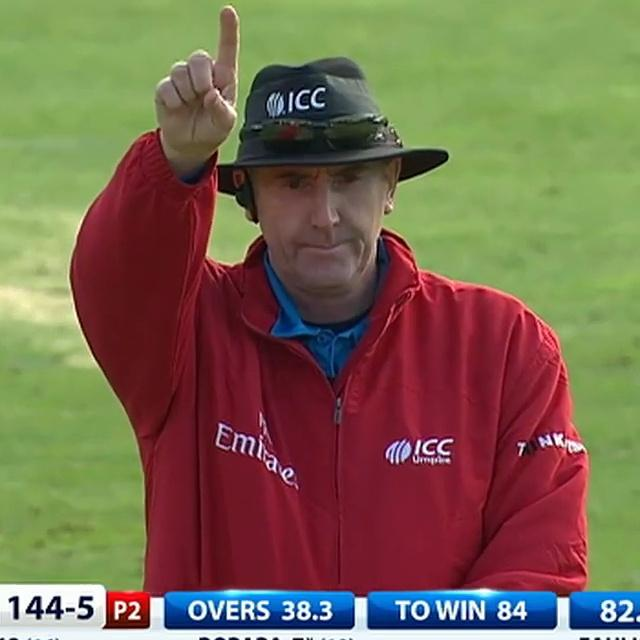umpire: (39, 0, 631, 595)
